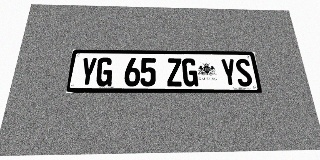5: (140, 58, 156, 86)
6: (124, 58, 140, 86)
G: (95, 57, 113, 86), (182, 58, 198, 86)
S: (235, 59, 253, 86)
Y: (78, 57, 98, 86), (220, 59, 238, 86)
Z: (167, 58, 183, 86)
